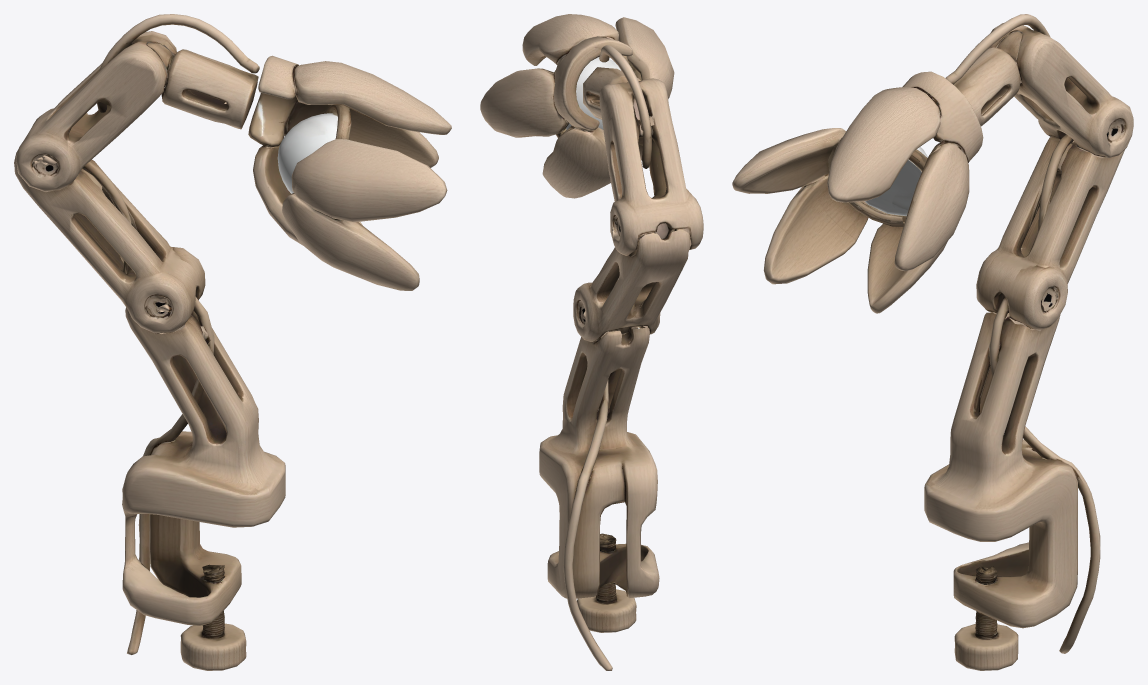
The model's file is clamp_lamp_02.glb.
The picture shows the model from 3 angles, left to right: view 1: azimuth 30°, elevation 25°; view 2: azimuth 150°, elevation 25°; view 3: azimuth 270°, elevation 25°; orthographic projection. The views are drawn at different scales.
Parts seen in each view (by area): view 1: tripo_part_1, tripo_part_8, tripo_part_2, tripo_part_0, tripo_part_3, tripo_part_6, tripo_part_4, tripo_part_7, tripo_part_9, tripo_part_10; view 2: tripo_part_1, tripo_part_0, tripo_part_3, tripo_part_2, tripo_part_9, tripo_part_8, tripo_part_4, tripo_part_10, tripo_part_6, tripo_part_7; view 3: tripo_part_1, tripo_part_0, tripo_part_2, tripo_part_8, tripo_part_3, tripo_part_6, tripo_part_9, tripo_part_4, tripo_part_7, tripo_part_10, tripo_part_5.
Part boxes in pixels (x1,y1,x2,y2): tripo_part_1: [122, 307, 285, 625]; tripo_part_8: [282, 139, 447, 290]; tripo_part_2: [14, 137, 205, 333]; tripo_part_0: [248, 55, 451, 245]; tripo_part_3: [15, 31, 176, 191]; tripo_part_6: [146, 42, 258, 129]; tripo_part_4: [180, 611, 246, 670]; tripo_part_7: [277, 113, 337, 193]; tripo_part_9: [127, 297, 214, 654]; tripo_part_10: [97, 14, 259, 112]; tripo_part_1: [539, 327, 659, 598]; tripo_part_0: [480, 14, 632, 198]; tripo_part_3: [599, 78, 703, 255]; tripo_part_2: [573, 229, 690, 342]; tripo_part_9: [563, 335, 612, 670]; tripo_part_8: [615, 17, 674, 160]; tripo_part_4: [577, 583, 636, 632]; tripo_part_10: [599, 45, 652, 168]; tripo_part_6: [583, 67, 640, 119]; tripo_part_7: [566, 57, 620, 129]; tripo_part_1: [924, 312, 1077, 628]; tripo_part_0: [827, 71, 983, 313]; tripo_part_2: [976, 134, 1124, 329]; tripo_part_8: [732, 128, 868, 284]; tripo_part_3: [989, 22, 1133, 157]; tripo_part_6: [953, 31, 1022, 126]; tripo_part_9: [989, 297, 1100, 653]; tripo_part_4: [954, 611, 1018, 670]; tripo_part_7: [864, 147, 927, 216]; tripo_part_10: [945, 14, 1050, 84]; tripo_part_5: [828, 138, 927, 226].
Bounding box in the file's own units: 0.5211 × 0.9799 × 0.5552.
Materials: 16 (16 with a texture image).
